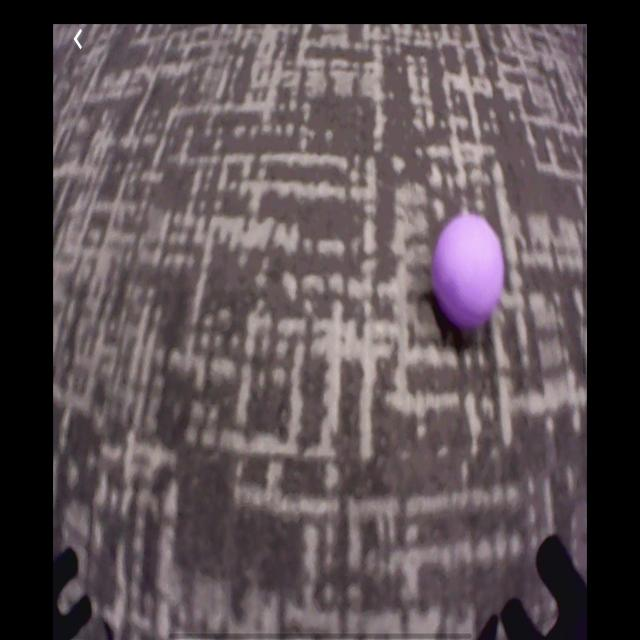ball: (434, 216, 508, 337)
